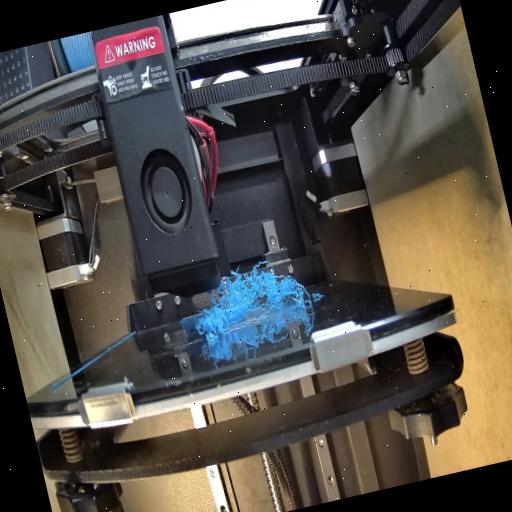spaghetti: (216, 262, 308, 322), (188, 300, 234, 350)
